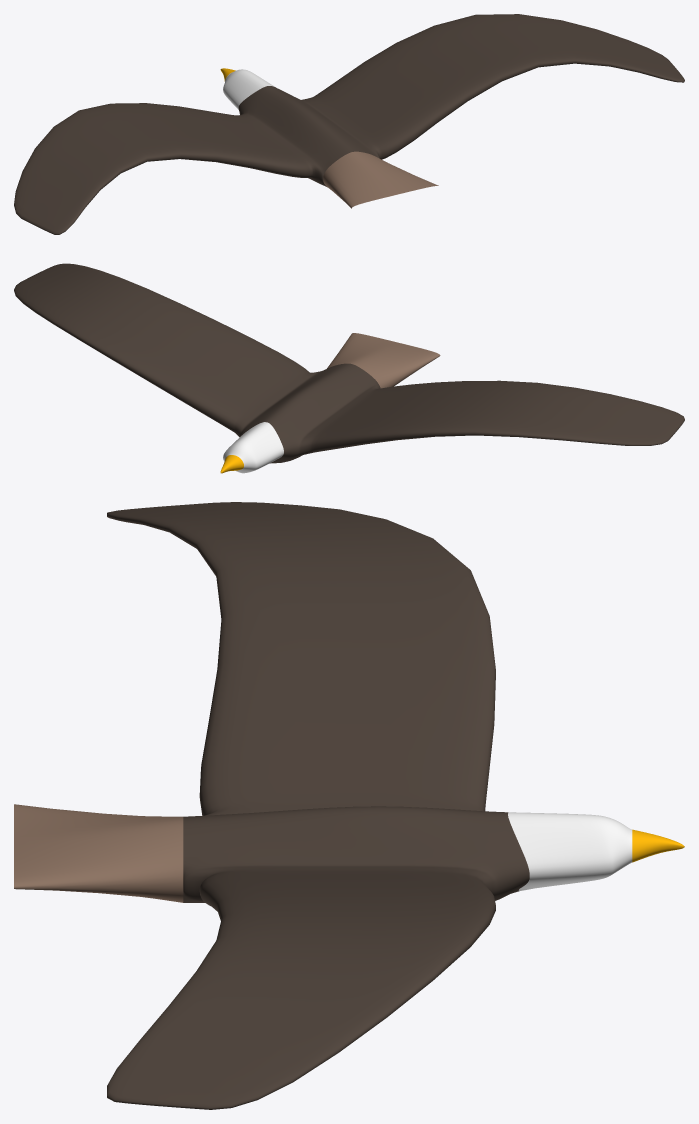
The model's file is eagle.glb.
The picture shows the model from 3 angles, top to bottom: view 1: azimuth 30°, elevation 25°; view 2: azimuth 150°, elevation 25°; view 3: azimuth 270°, elevation 25°; orthographic projection. The views are drawn at different scales.
Visible parts, largest first — view 1: Cylinder001; view 2: Cylinder001; view 3: Cylinder001.
Part boxes in pixels (bbox=[...]): Cylinder001: bbox=[14, 14, 684, 234]; Cylinder001: bbox=[14, 263, 684, 473]; Cylinder001: bbox=[14, 502, 684, 1109].
Size of the model in its own units: 260 by 32.16 by 122.
